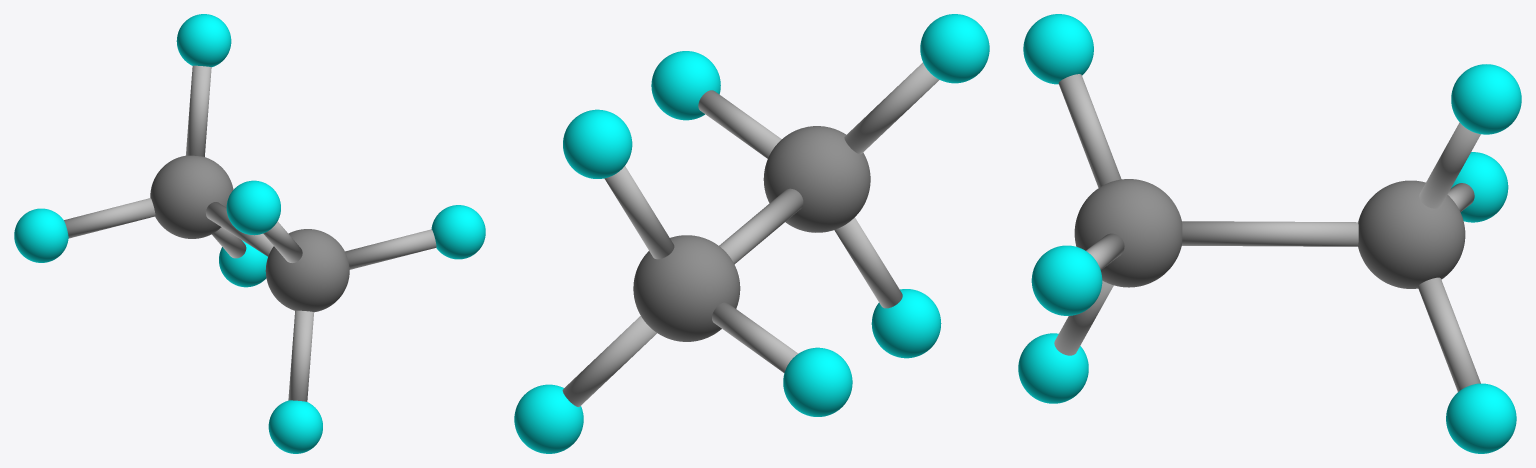
Rendered from ethane.glb.
3 renders of one model, left to right at view 1: azimuth 30°, elevation 25°; view 2: azimuth 150°, elevation 25°; view 3: azimuth 270°, elevation 25°, orthographic. The views are drawn at different scales.
Parts seen in each view (by area): view 1: CMAtom_0; view 2: CMAtom_0; view 3: CMAtom_0.
Boxes of the visible parts, bbox=[...] form: CMAtom_0: bbox=[14, 14, 485, 453]; CMAtom_0: bbox=[514, 14, 989, 453]; CMAtom_0: bbox=[1018, 14, 1521, 453].
Bounding box in the file's own units: 0.2605 × 0.2381 × 0.2854.
